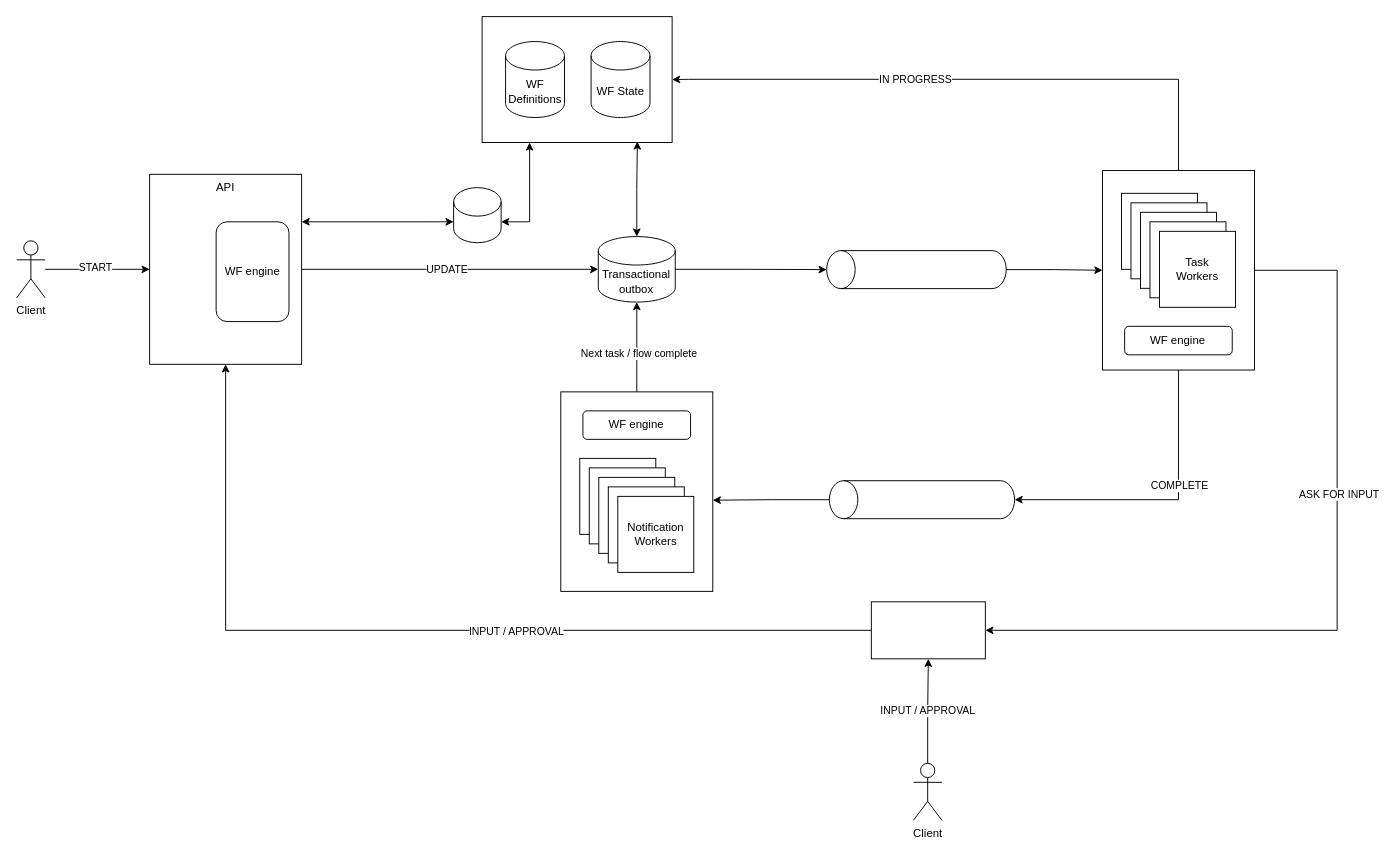
The diagram is 1395 pixels wide and 857 high, and some of its shapes have lost their labels. Here are the shapes that lost their labels. From the top down, the box of each, then its label:
(453, 187, 501, 243): Cache
(826, 250, 1006, 289): task-queues
(828, 480, 1015, 519): notifications
(870, 601, 985, 659): External platform
